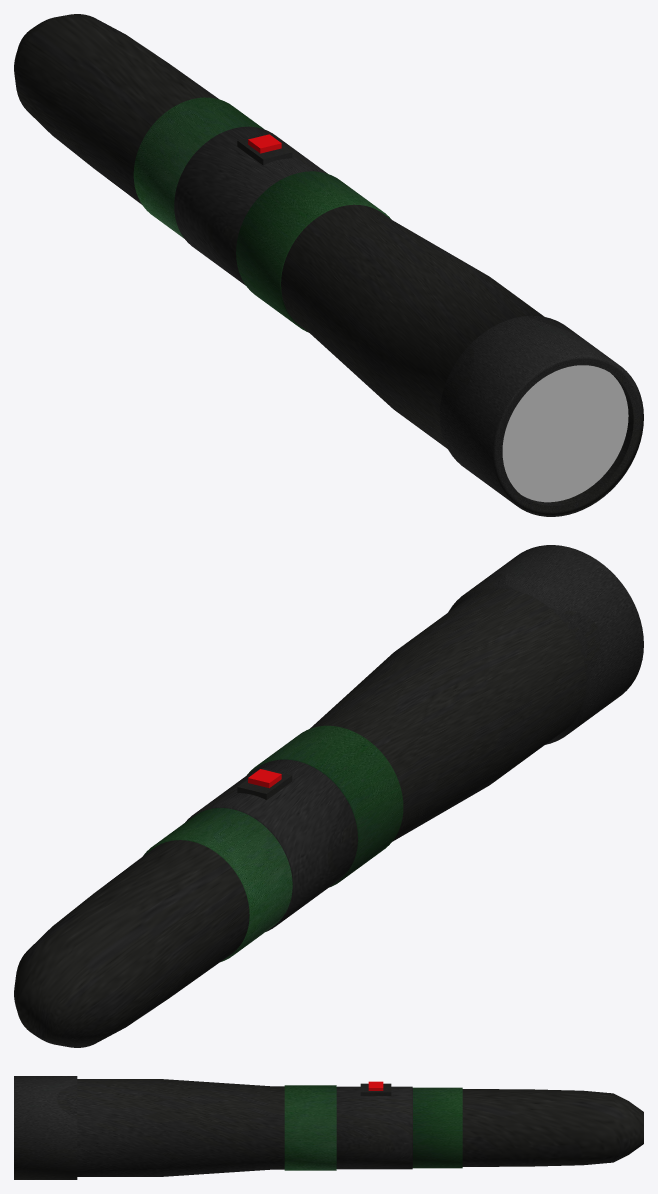
File: torch.fbx
The picture shows the model from 3 angles, top to bottom: view 1: azimuth 30°, elevation 25°; view 2: azimuth 150°, elevation 25°; view 3: azimuth 270°, elevation 25°; orthographic projection. The views are drawn at different scales.
Visible parts, largest first — view 1: Cylinder, Cylinder.001; view 2: Cylinder; view 3: Cylinder, Cube.
Boxes of the visible parts, <box> form: Cylinder: <box>14,14,643,516</box>; Cylinder.001: <box>502,365,628,502</box>; Cylinder: <box>14,545,643,1047</box>; Cylinder: <box>14,1076,643,1179</box>; Cube: <box>360,1083,391,1095</box>.
Size of the model in its own units: 266 by 266 by 1609.
Materials: 5 (3 with a texture image).
